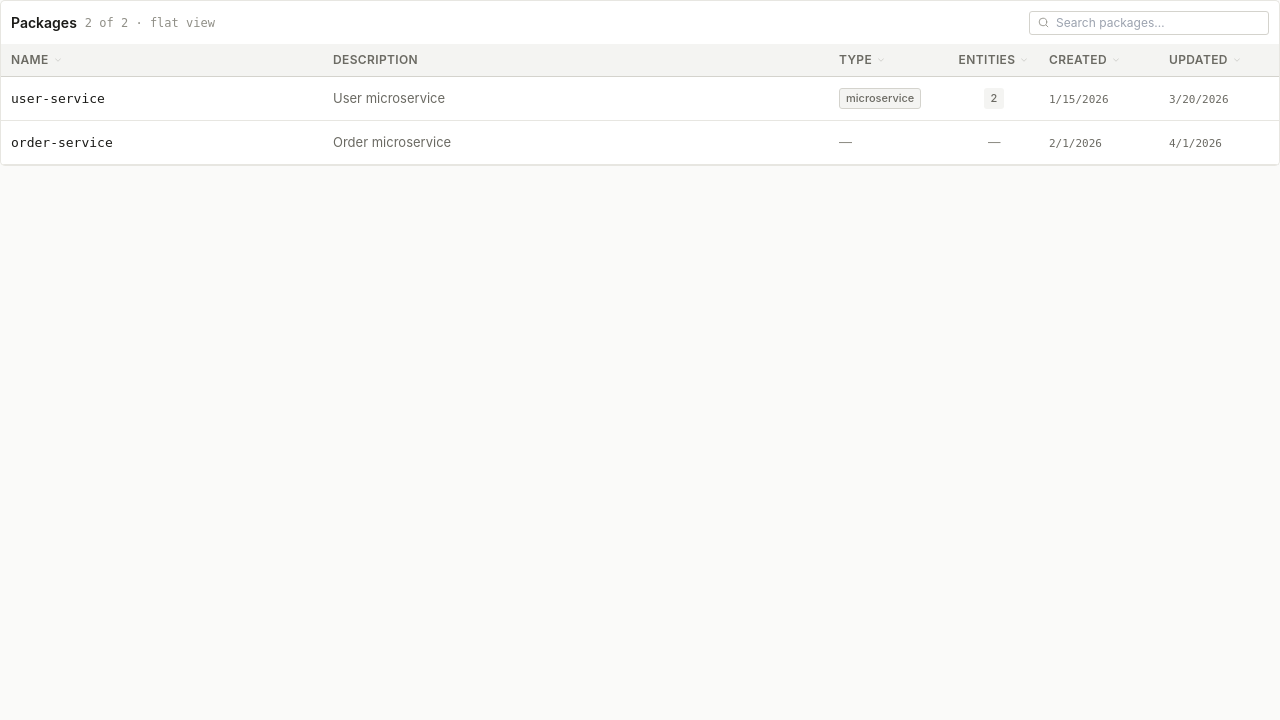
it: PackageFlatTable › opens the side panel when a row is clicked and saves the new name
Click the text "user-service" at (58, 99), box left=11, top=89, right=105, bottom=108
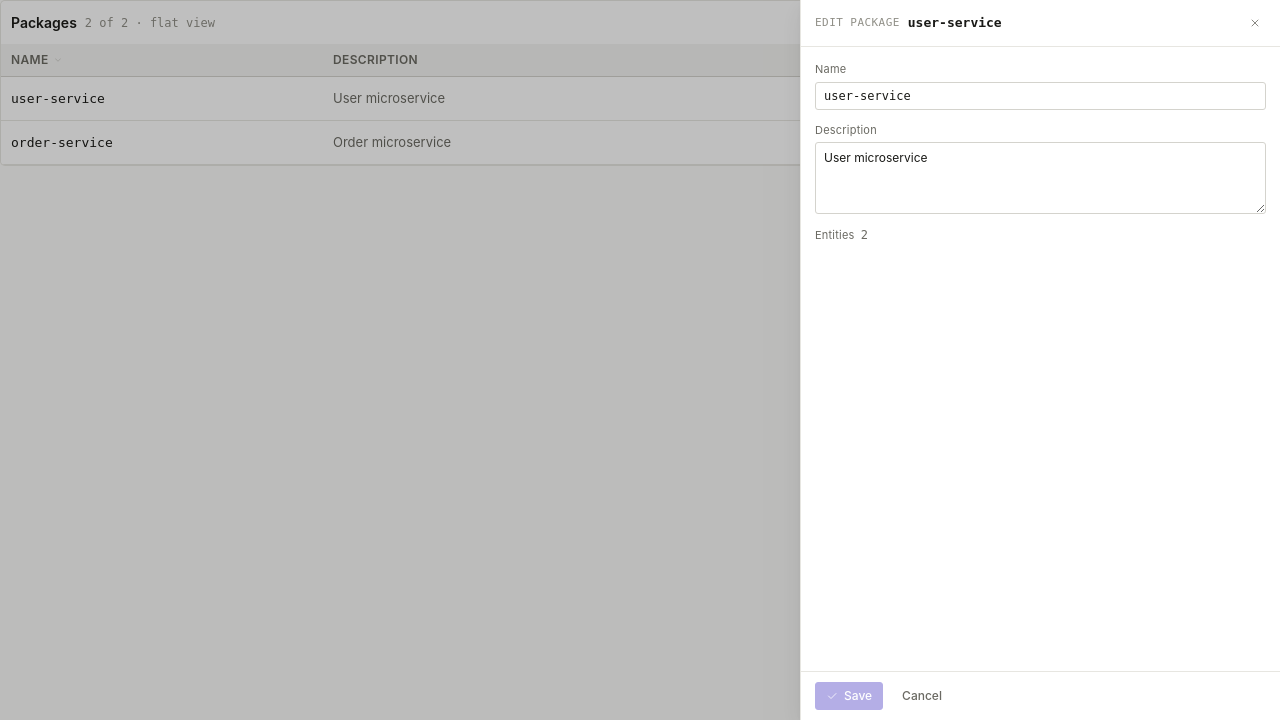
Now the field labelled "Name" holds "user-service"
Replace the text in the field labelled "Name" with "account-service" at (1040, 96), box left=815, top=82, right=1266, bottom=110
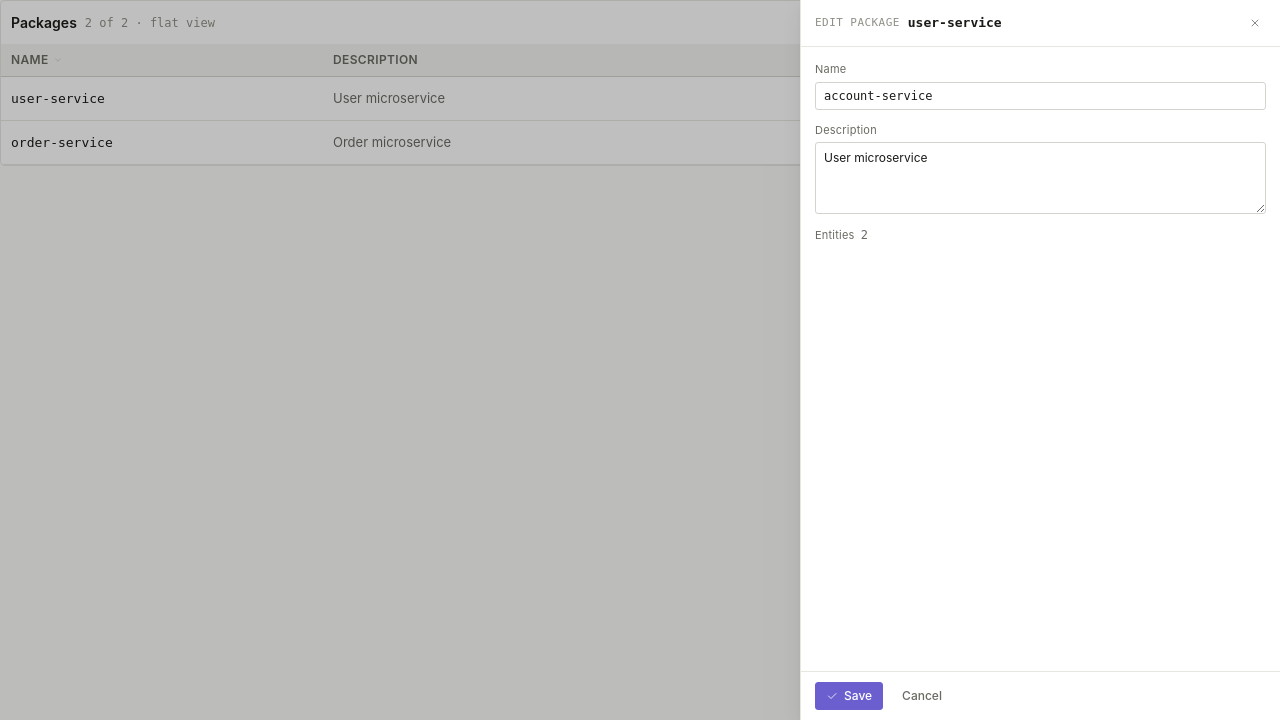
Click the button "Save" at (849, 696), box left=815, top=682, right=883, bottom=710
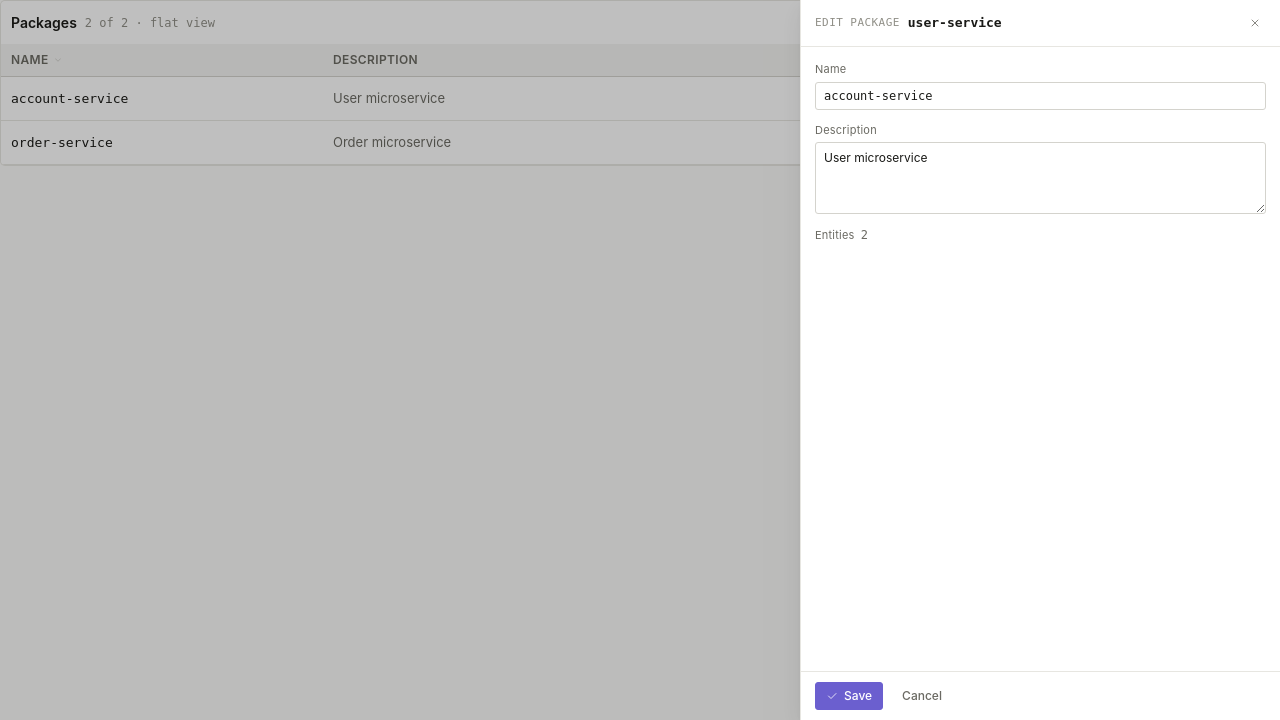
Now the text "user-service" reads "account-service", box left=11, top=91, right=128, bottom=106
